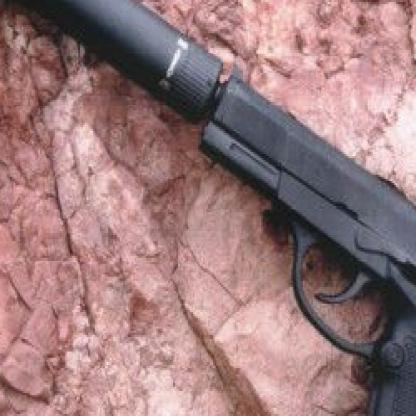gun: (192, 46, 414, 414)
